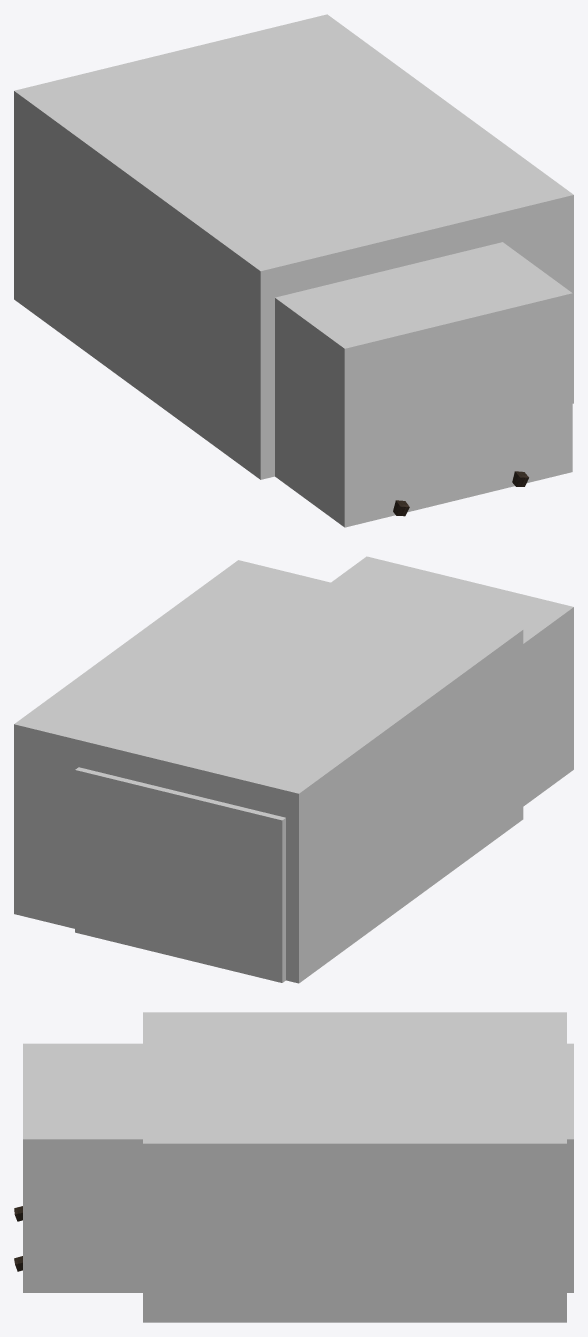
Rendered from cart_intact.glb.
3 views of the same model, one above another, from view 1: azimuth 30°, elevation 25°; view 2: azimuth 150°, elevation 25°; view 3: azimuth 270°, elevation 25° (orthographic). The views are drawn at different scales.
Parts seen in each view (by area): view 1: col_click, col_cart; view 2: col_click, col_cart; view 3: col_click, col_cart.
Part boxes in pixels (x1,y1,x2,y2): col_click: [14, 14, 573, 479]; col_cart: [275, 242, 572, 527]; col_click: [14, 560, 523, 983]; col_cart: [75, 556, 573, 982]; col_click: [143, 1012, 566, 1322]; col_cart: [23, 1043, 573, 1292].
Size of the model in its own units: 2.2 by 1.41 by 3.96.
Materials: 4 (4 with a texture image).
